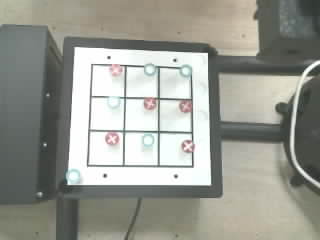blue circle: (66, 169, 80, 183), (107, 97, 121, 109), (144, 63, 156, 75), (142, 134, 154, 146), (180, 65, 192, 76)
board: (65, 46, 213, 187)
cells: (89, 132, 122, 165), (125, 133, 157, 165), (91, 98, 123, 130), (160, 134, 192, 165), (125, 99, 157, 130), (92, 65, 123, 96), (160, 100, 191, 131), (126, 66, 157, 96), (160, 68, 190, 98)
grid: (87, 64, 193, 167)
red cross: (105, 132, 119, 144), (144, 98, 157, 110), (109, 64, 122, 76), (181, 140, 194, 152), (179, 100, 191, 112)
